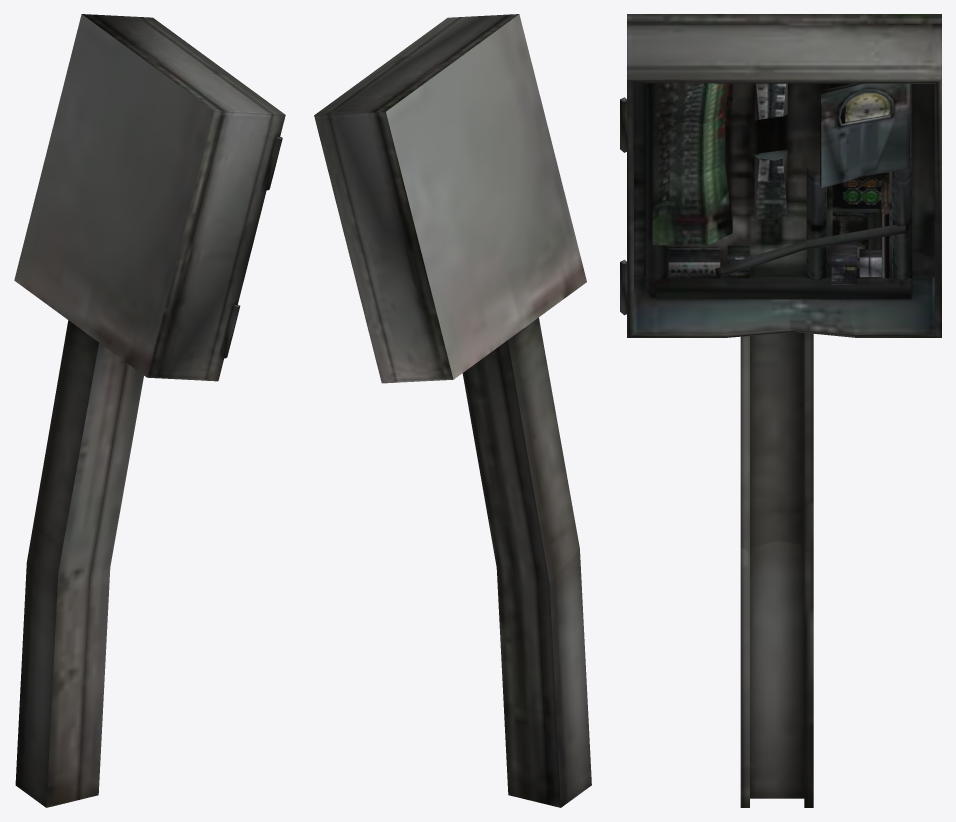
File: powerbox_damaged.glb
3 renders of one model, left to right at view 1: azimuth 30°, elevation 25°; view 2: azimuth 150°, elevation 25°; view 3: azimuth 270°, elevation 25°, orthographic. The views are drawn at different scales.
Parts seen in each view (by area): view 1: 0_PowerBox_sheet; view 2: 0_PowerBox_sheet; view 3: 0_PowerBox_sheet.
Part boxes in pixels (bbox=[...]): 0_PowerBox_sheet: bbox=[14, 14, 285, 807]; 0_PowerBox_sheet: bbox=[314, 14, 591, 807]; 0_PowerBox_sheet: bbox=[620, 14, 941, 807].
Bounding box in the file's own units: 0.4879 × 1.71 × 0.5989.
1 material, 1 textured.
